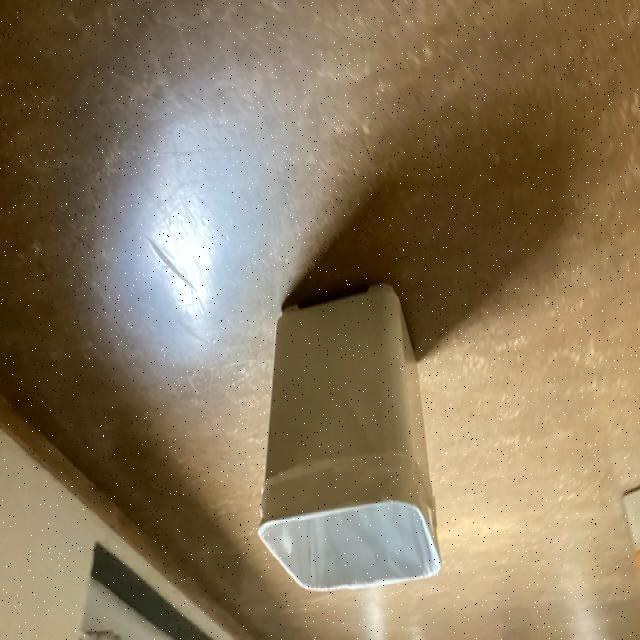garbage container: (238, 256, 455, 615)
